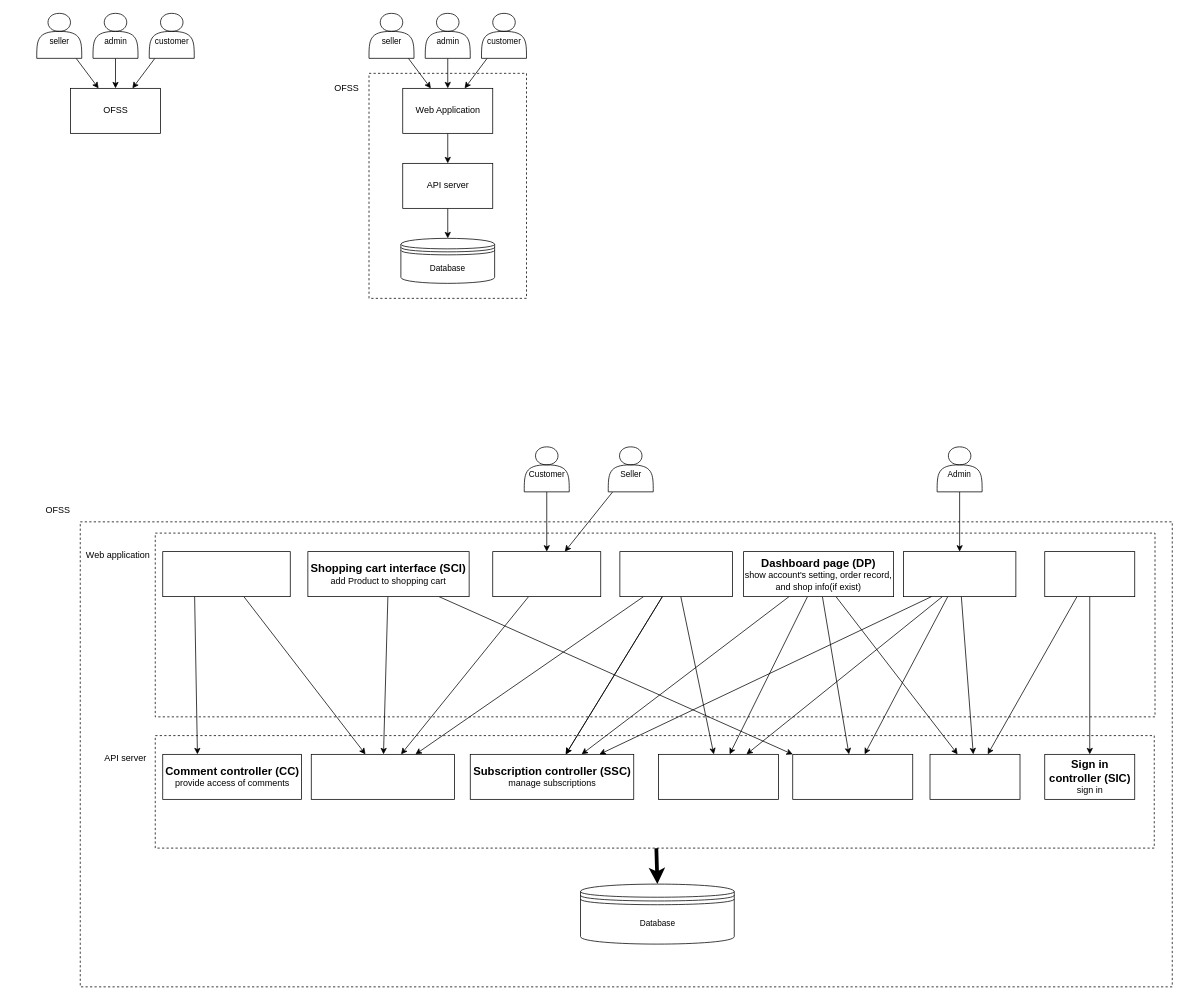
Image size: 1186x1000. Some labels were removed from this diagram. Here are the shapes that lost their labels. From the top down, the box of each, then its label:
(162, 551, 290, 597): Product page (PP) show single item info
(492, 551, 601, 597): Main page (MP) list all product from various shop
(619, 551, 732, 597): Shop page (SP) show single shop info
(903, 551, 1016, 597): Admin page (AP) list all active account
(1044, 551, 1135, 597): Login page (LP) login page
(310, 754, 454, 799): Product controller (PC) provide access of products
(658, 754, 778, 799): Shop controller (SC) provide shop info
(792, 754, 913, 799): Order controller (OC) provide order info as a account or as a shop
(929, 754, 1020, 799): Account controller (AC) provide account info
